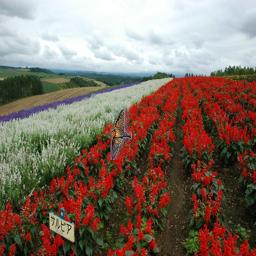Swallow: (110, 108, 132, 160)
